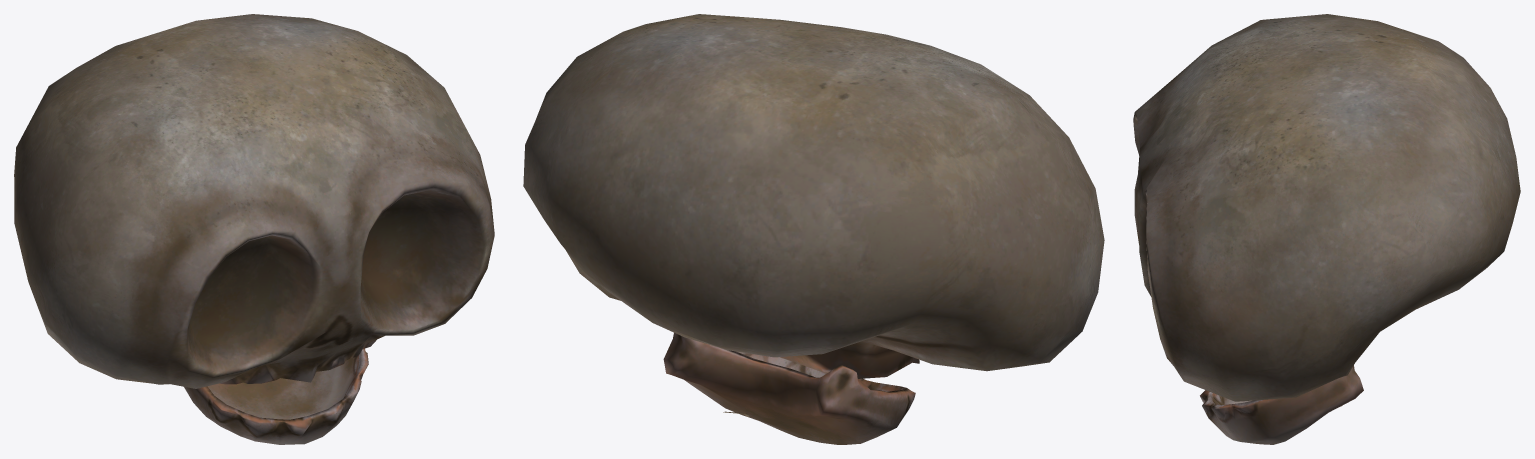
Rendered from skeleton_head.fbx.
3 renders of one model, left to right at view 1: azimuth 30°, elevation 25°; view 2: azimuth 150°, elevation 25°; view 3: azimuth 270°, elevation 25°, orthographic. The views are drawn at different scales.
Parts seen in each view (by area): view 1: node_id36; view 2: node_id36; view 3: node_id36.
Part boxes in pixels (box(x1,y1,x2,y2)): node_id36: box(14, 14, 494, 444); node_id36: box(523, 14, 1104, 444); node_id36: box(1133, 14, 1520, 444).
Size of the model in its own units: 683 by 552 by 533.
Materials: 1 (1 with a texture image).
